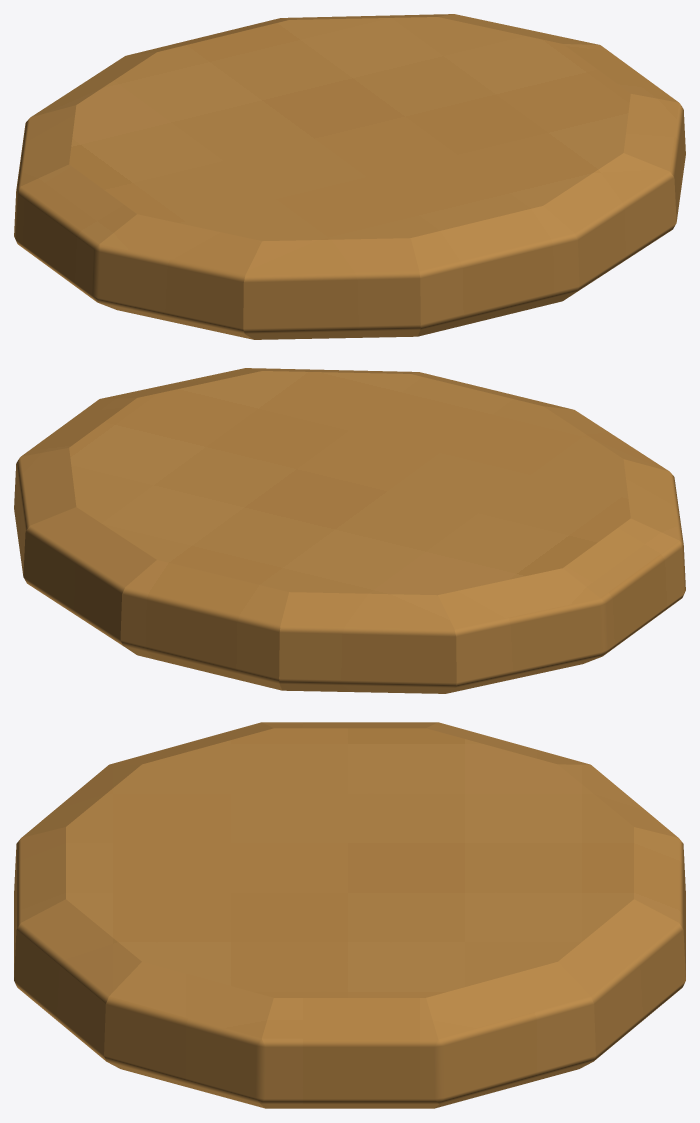
The model's file is Lid.glb.
3 renders of one model, top to bottom at view 1: azimuth 30°, elevation 25°; view 2: azimuth 150°, elevation 25°; view 3: azimuth 270°, elevation 25°, orthographic. The views are drawn at different scales.
Parts seen in each view (by area): view 1: Lid; view 2: Lid; view 3: Lid.
Boxes of the visible parts, x1,y1,x2,y2 form: Lid: (14,14,685,339); Lid: (14,368,685,693); Lid: (14,722,685,1108).
Size of the model in its own units: 0.2549 by 0.037 by 0.2239.
Materials: 1 (1 with a texture image).
